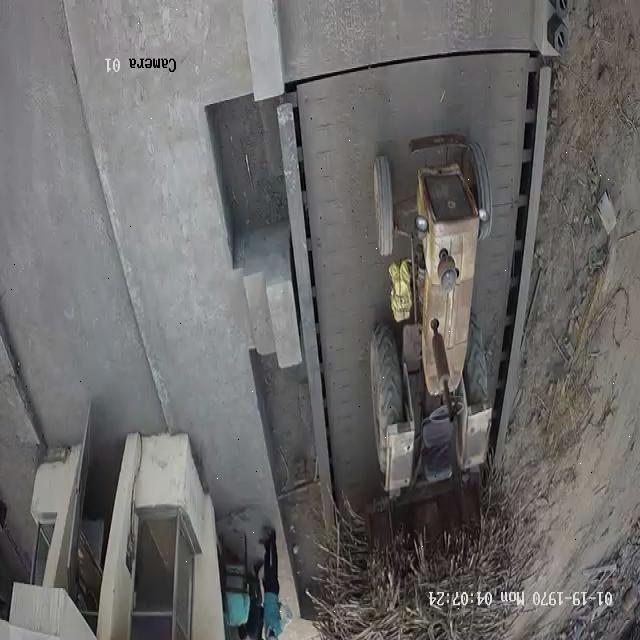Tratores - v5 YOLO V8L 2024-11-13: (364, 130, 491, 488)
